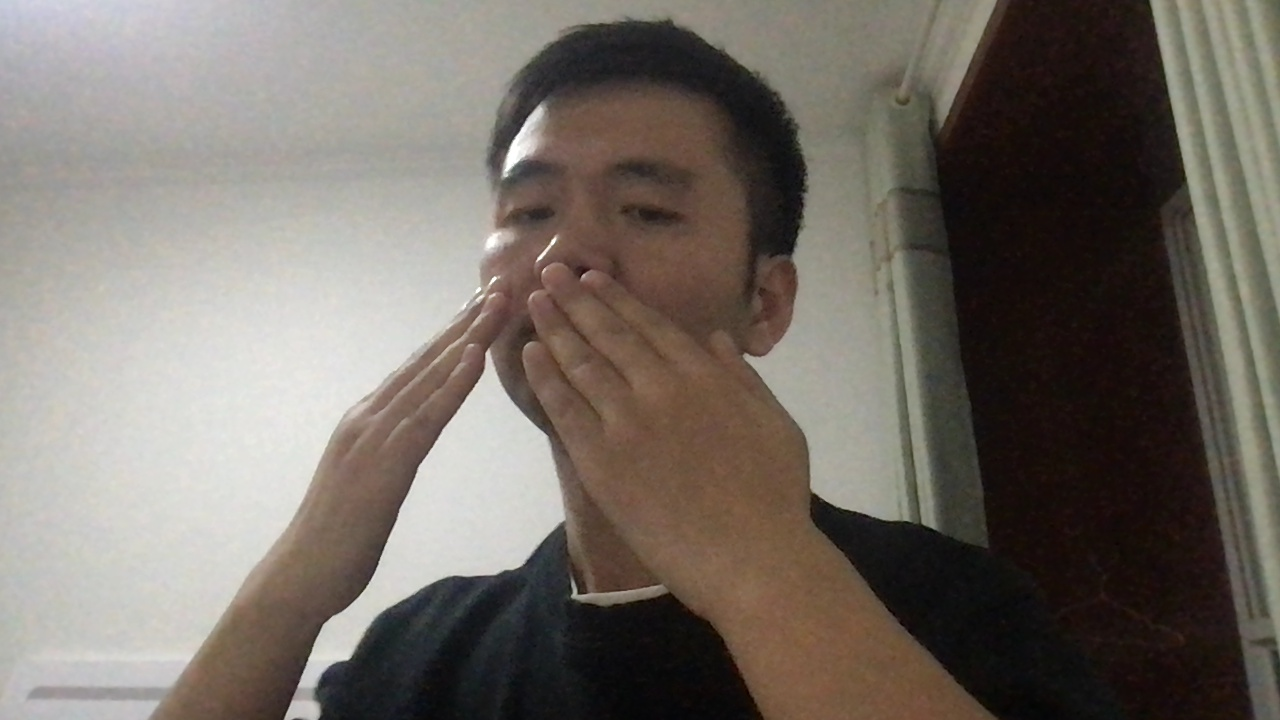thanks: (256, 260, 859, 608)
